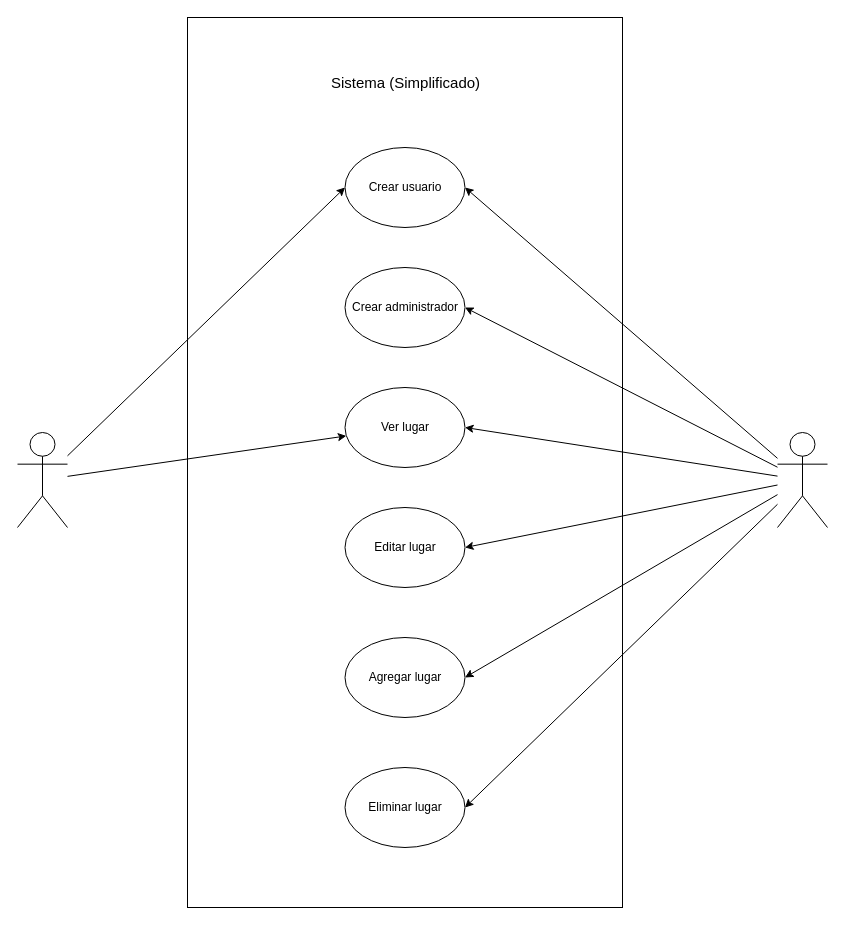
This 857x925 diagram has some shape labels left out. The shapes that lost their labels are listed below. From the top down, each one's box as (x1, y1, x2, y2) in pixels, then its label:
(16, 432, 68, 528): Usuario
(776, 432, 828, 528): Administrador
